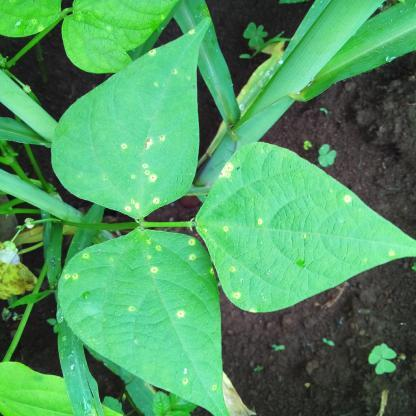Beans_Rust: (198, 142, 397, 310), (56, 225, 226, 416), (50, 19, 211, 214)
